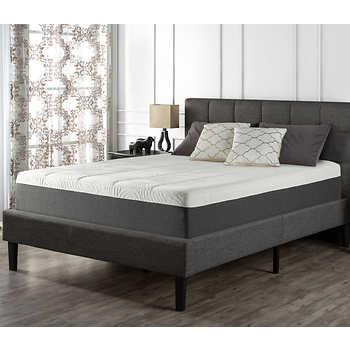bed: (5, 80, 350, 317)
